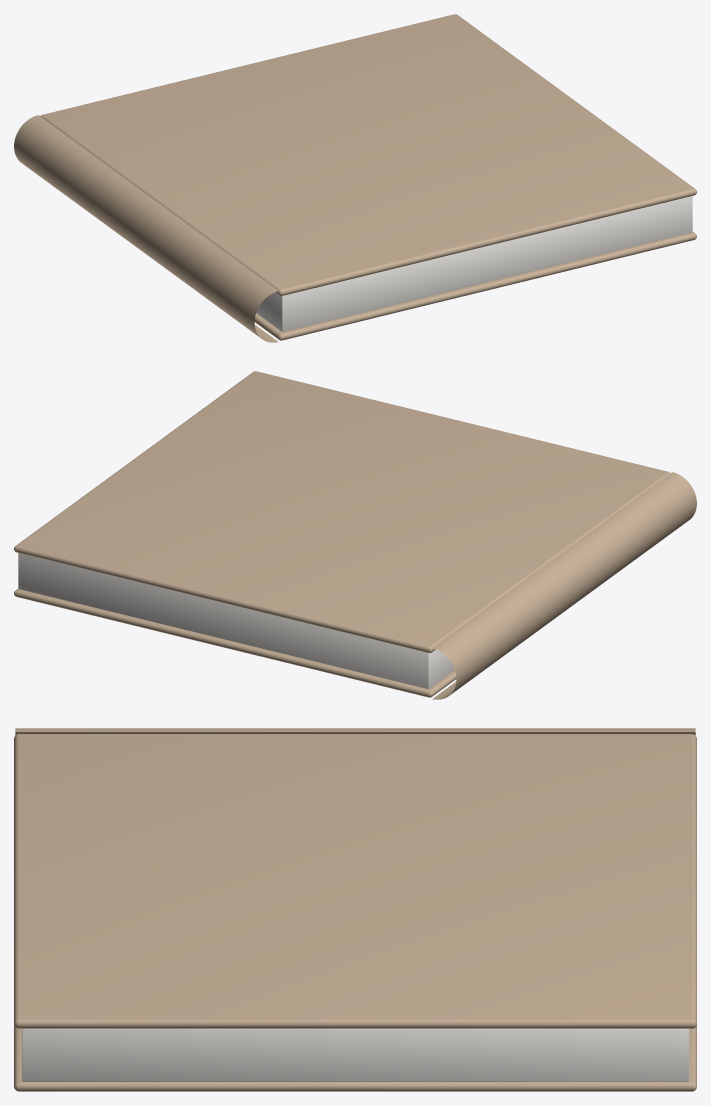
File: monogram--square.glb
3 views of the same model, one above another, from view 1: azimuth 30°, elevation 25°; view 2: azimuth 150°, elevation 25°; view 3: azimuth 270°, elevation 25° (orthographic). The views are drawn at different scales.
Visible parts, largest first — view 1: CoverFront, Pages, Spine, CoverBack; view 2: CoverFront, Pages, Spine, CoverBack; view 3: CoverFront, Pages, CoverBack, Spine.
Boxes of the visible parts, box(x1,y1,x2,y2) form: CoverFront: box(40, 14, 696, 295); Pages: box(256, 196, 692, 331); Spine: box(14, 115, 278, 342); CoverBack: box(254, 232, 696, 340); CoverFront: box(14, 371, 670, 652); Pages: box(18, 553, 454, 688); Spine: box(432, 472, 696, 699); CoverBack: box(14, 589, 456, 697); CoverFront: box(14, 734, 696, 1028); Pages: box(22, 1028, 688, 1081); CoverBack: box(14, 1025, 696, 1091); Spine: box(15, 728, 695, 735).
Bounding box in the file's own units: 0.3179 × 0.0352 × 0.3.
